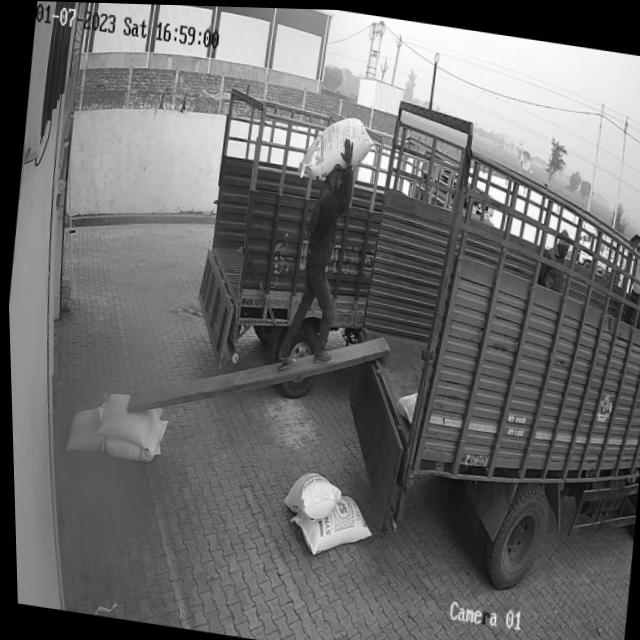sack: (282, 484, 373, 560), (296, 107, 376, 185), (92, 388, 161, 450), (94, 409, 166, 462), (278, 466, 340, 522), (60, 400, 104, 456)
